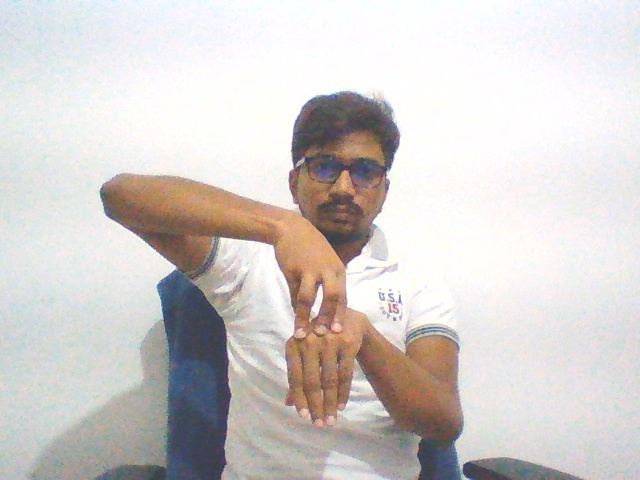papaya: (269, 204, 374, 436)
